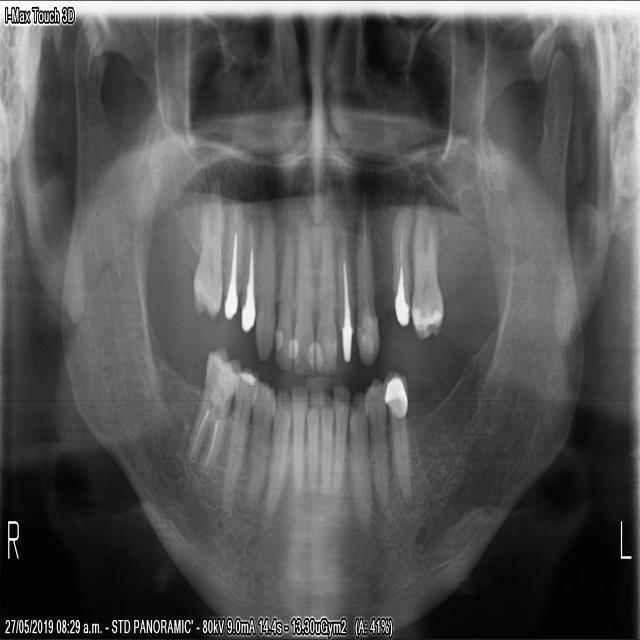LCD: (348, 388, 371, 530)
LCU: (355, 183, 380, 371)
LID: (330, 381, 350, 511), (319, 401, 333, 507)
LIU: (314, 214, 336, 378), (334, 221, 354, 371)
LMU: (410, 193, 444, 343)
LPMD: (383, 367, 414, 511), (364, 374, 388, 512)
LPMU: (390, 192, 414, 330)
RCD: (259, 386, 289, 525)
RCU: (252, 199, 274, 364)
RID: (289, 381, 307, 503), (305, 403, 319, 511)
RIU: (290, 211, 313, 377), (272, 210, 292, 375)
RMD: (181, 343, 240, 479)
RMU: (190, 175, 223, 321)
RPMD: (220, 362, 259, 517), (244, 378, 273, 512)
RPMU: (221, 196, 243, 323), (238, 198, 256, 337)
